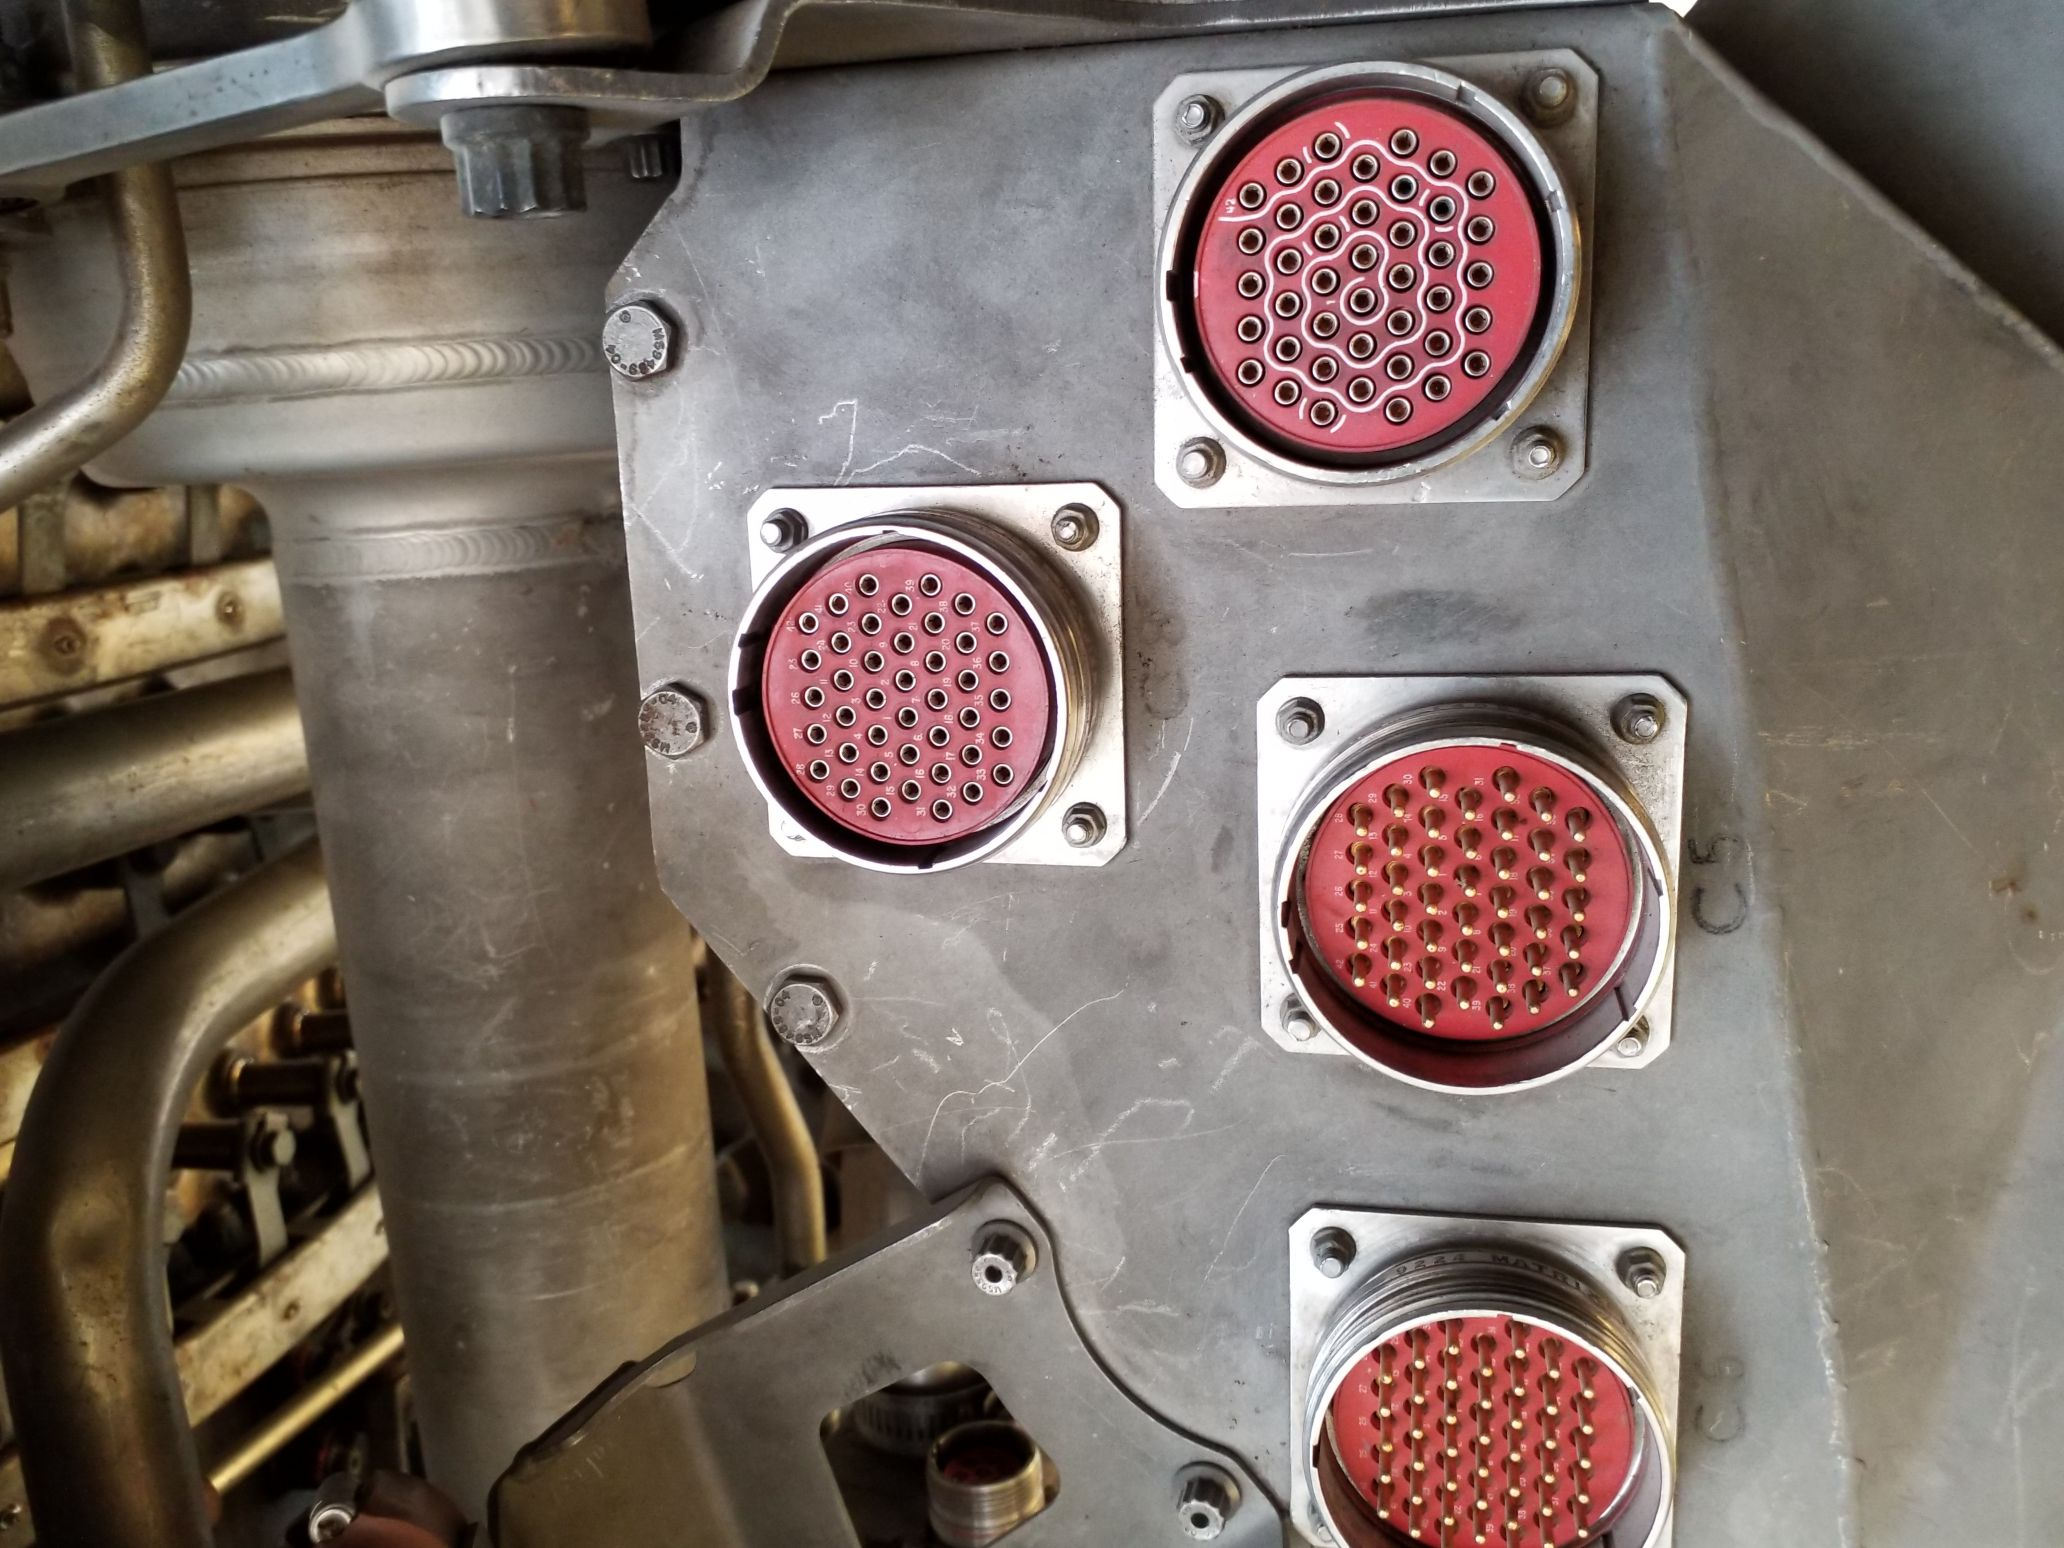inletnumbers: (723, 483, 1100, 881)
inletround: (1143, 63, 1586, 486)
outlet: (1273, 675, 1685, 1102), (1284, 1250, 1695, 1548)
